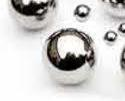ironball: (41, 28, 100, 89), (6, 0, 58, 31), (95, 0, 124, 18), (72, 2, 92, 23), (119, 32, 124, 94), (102, 29, 118, 46), (119, 19, 124, 37)
